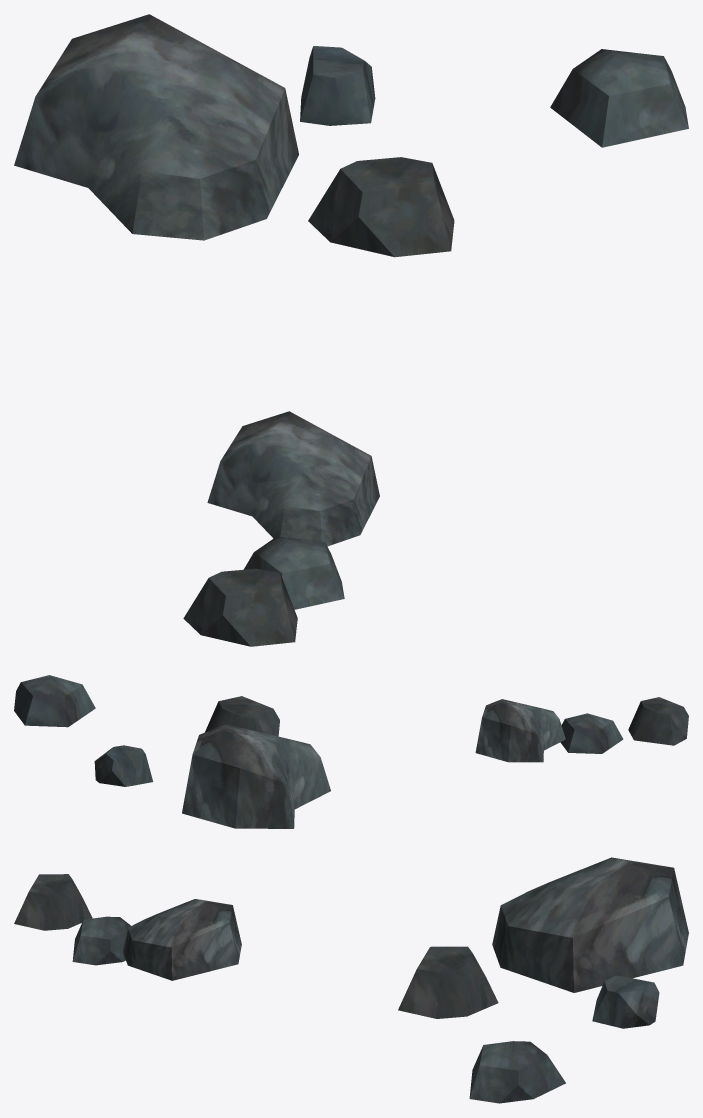
File: object_rubble32.fbx
The picture shows the model from 3 angles, top to bottom: view 1: azimuth 30°, elevation 25°; view 2: azimuth 150°, elevation 25°; view 3: azimuth 270°, elevation 25°; orthographic projection. The views are drawn at different scales.
Parts seen in each view (by area): view 1: Material_#238683587/cliffside; view 2: Material_#238683587/cliffside; view 3: Material_#238683587/cliffside.
Boxes of the visible parts, x1=… form: Material_#238683587/cliffside: x1=14, y1=14, x2=688, y2=646; Material_#238683587/cliffside: x1=14, y1=675, x2=688, y2=828; Material_#238683587/cliffside: x1=14, y1=857, x2=688, y2=1103.
Bounding box in the file's own units: 4.57 × 1.31 × 4.74.
